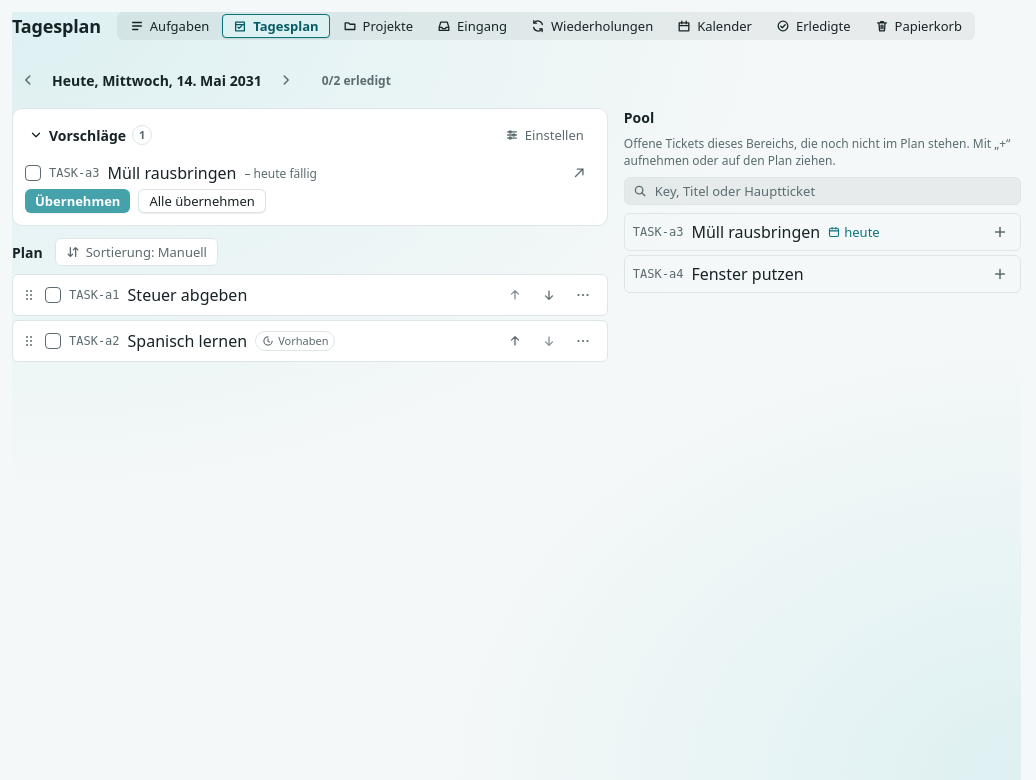
Test: pool › lists the open tickets outside the plan with a search and "+"
In the search field named "Pool durchsuchen": (831, 191) [651,180,1012,202], type "fenster"
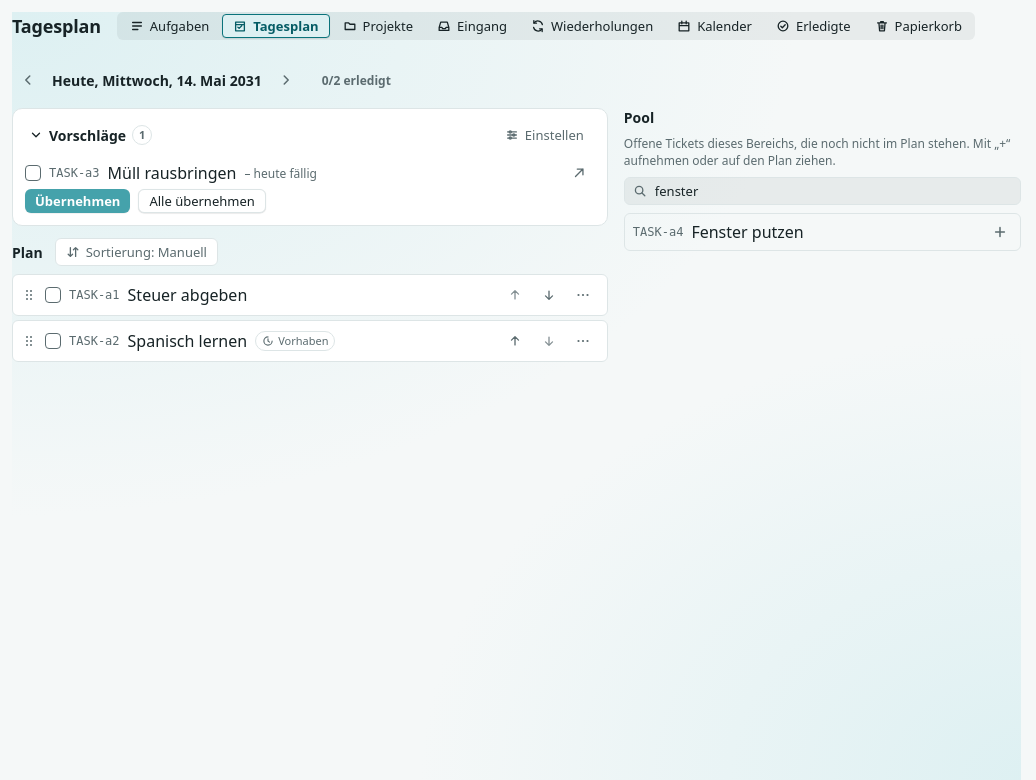
Click the button named "TASK-a4 zum Tagesplan": (1000, 232) [984,216,1016,248]
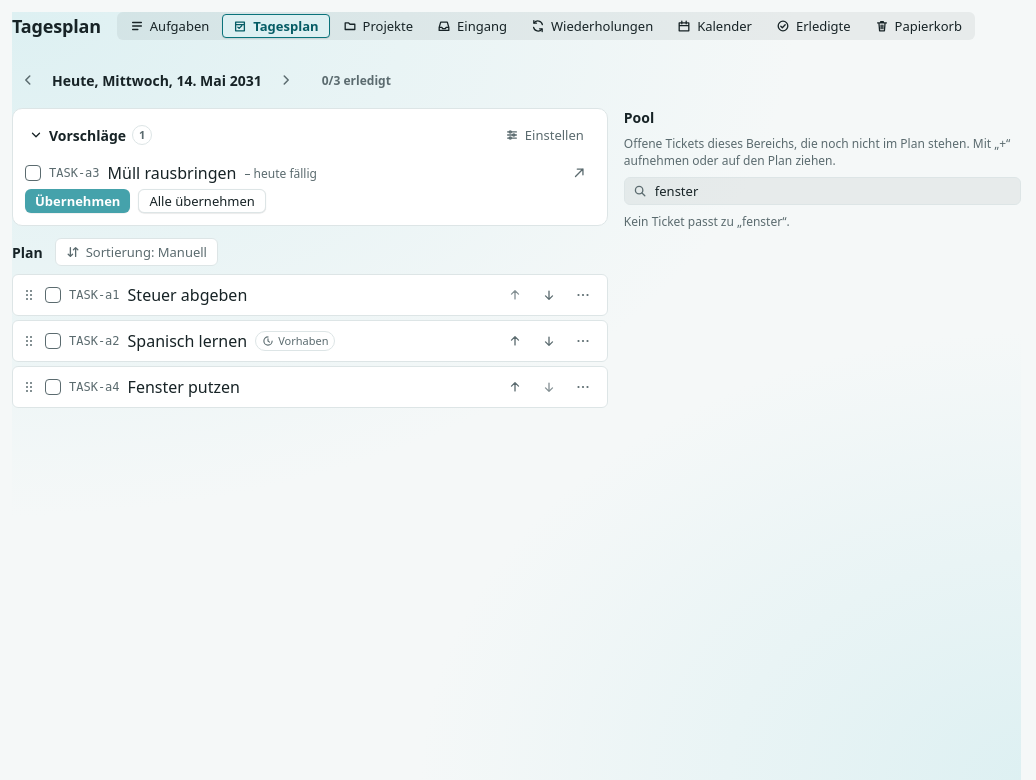
Now the text "Kein Ticket passt zu „fenster“." is shown, box [624,213,790,230]
